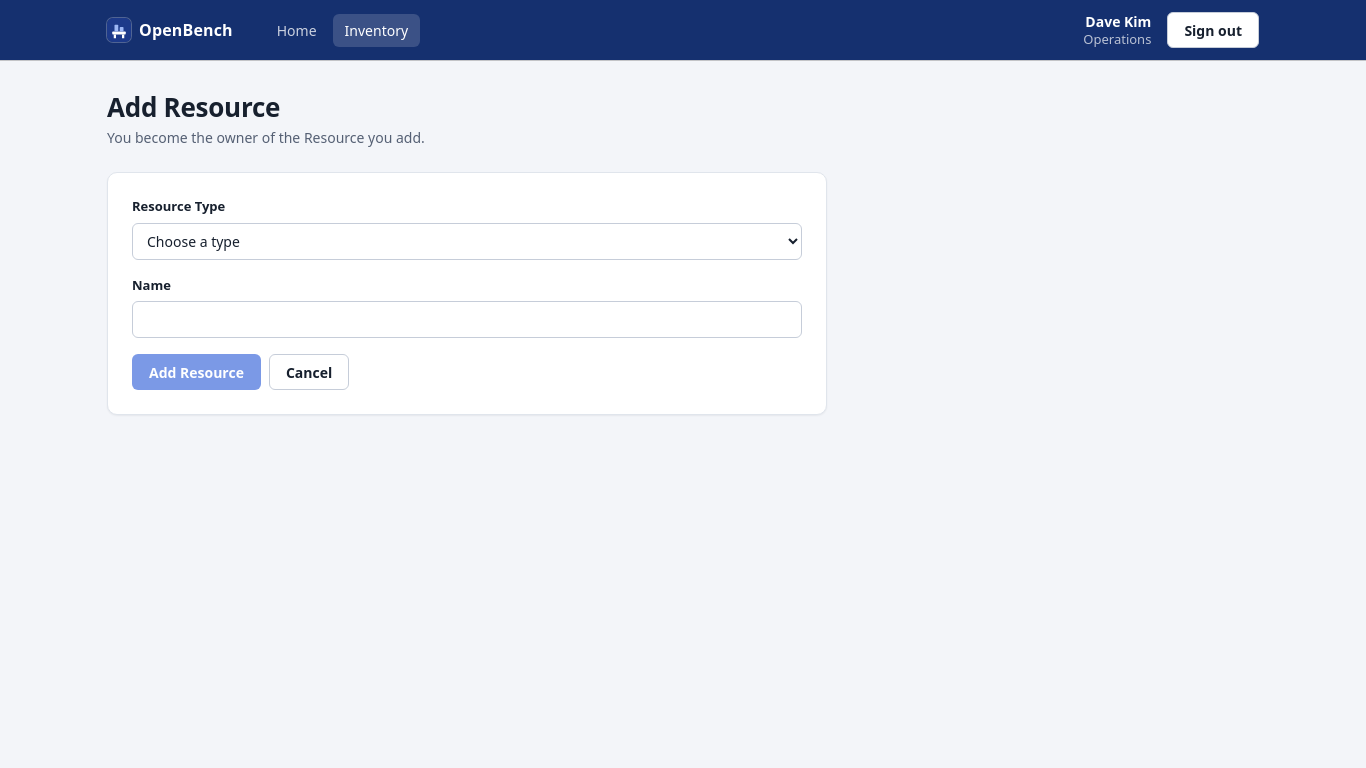
Test case: AddResourcePage › shows a refusal as the server words it
The width and height of the screenshot is (1366, 768).
Select "Meeting room" in the dropdown labelled "Resource Type": (467, 241) [132, 223, 802, 260]
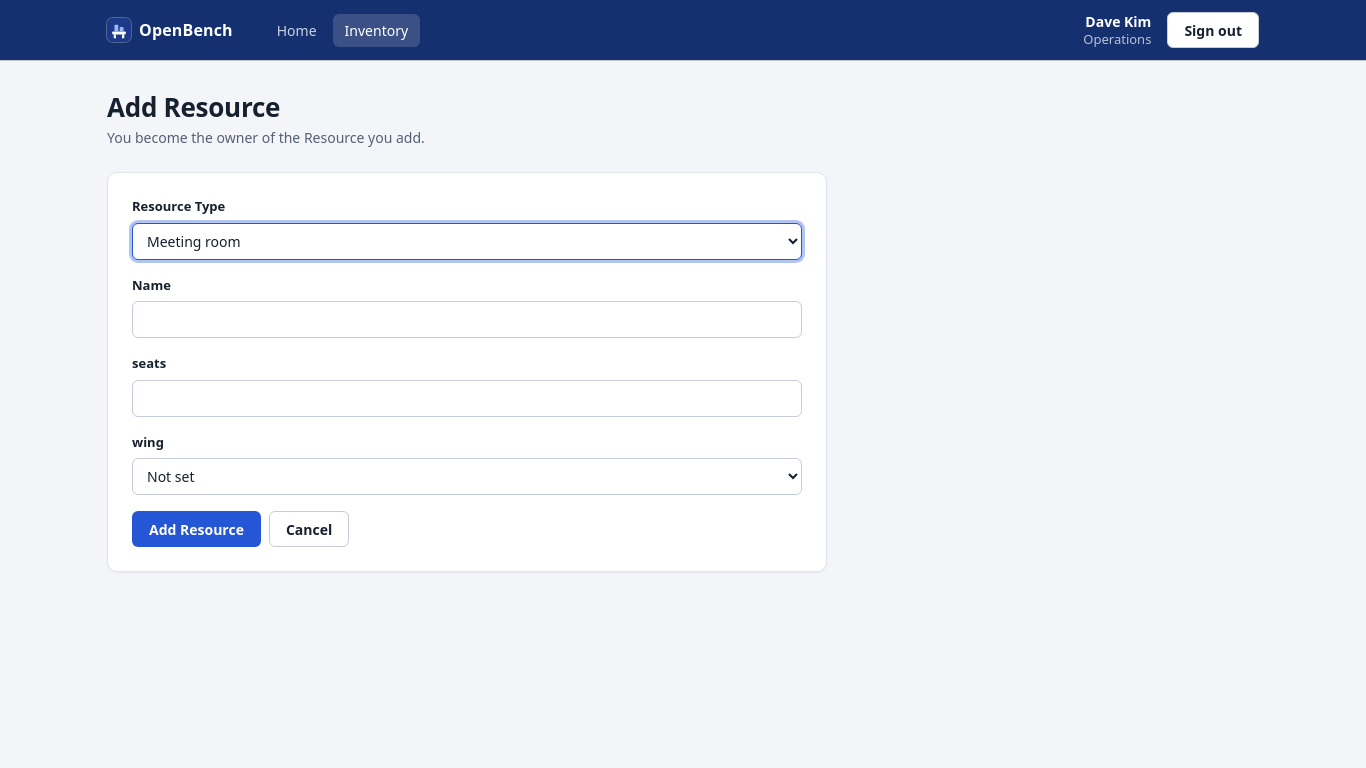
In the field labelled "Name": (467, 320) [132, 301, 802, 338], type "Room A"
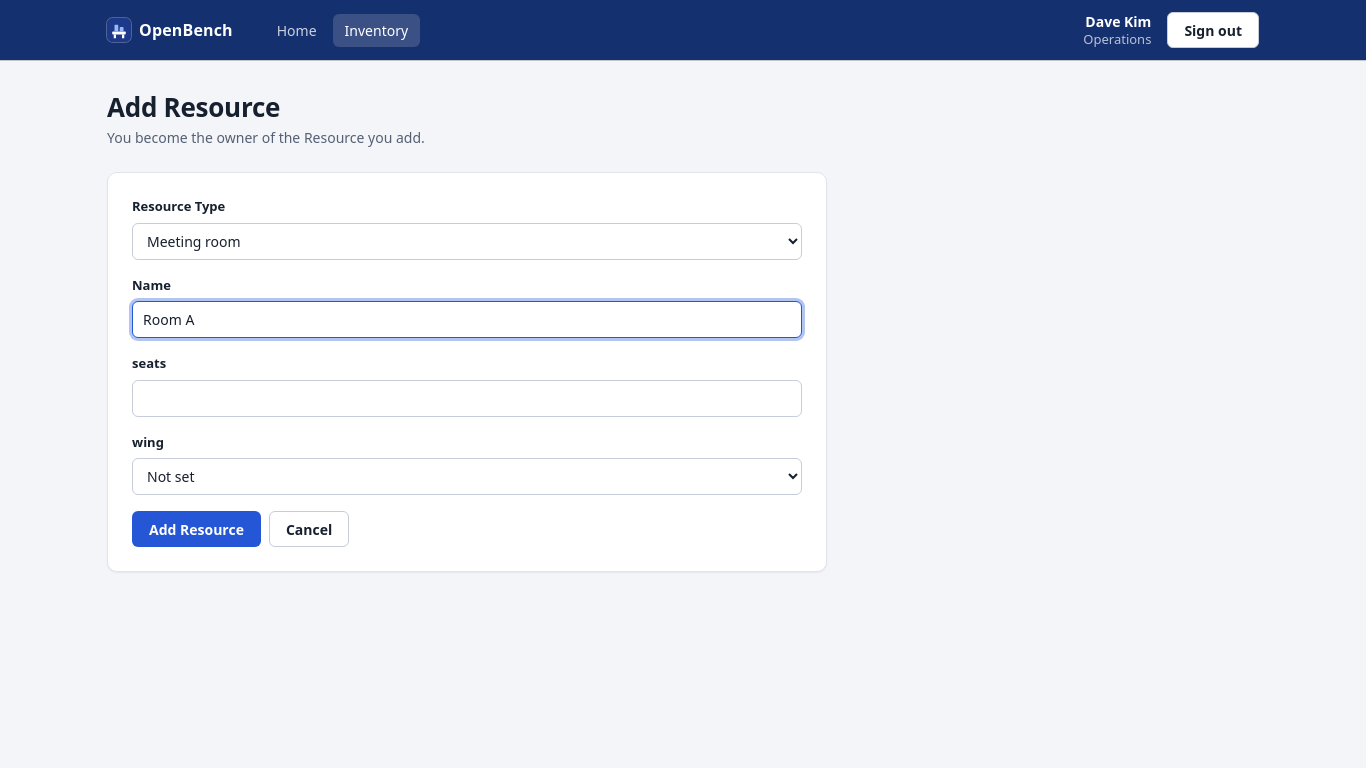
Click the button "Add Resource": (196, 529) [132, 511, 261, 547]
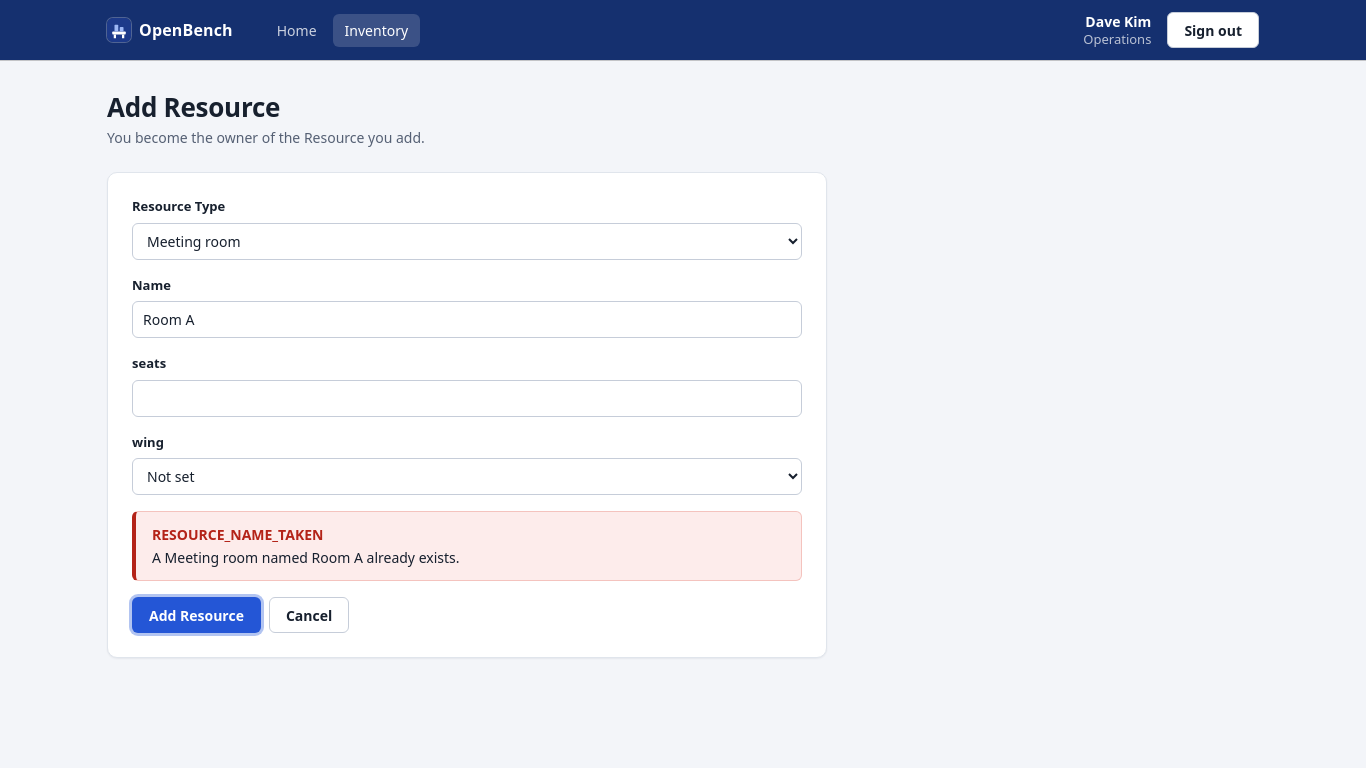
Now the text "A Meeting room named Room A already exists." is shown, box [152, 548, 460, 567]
